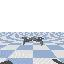drone: (21, 36, 44, 46)
